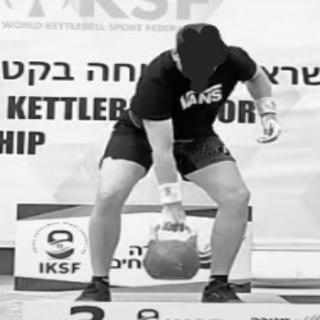kettlebell: (142, 215, 205, 285)
